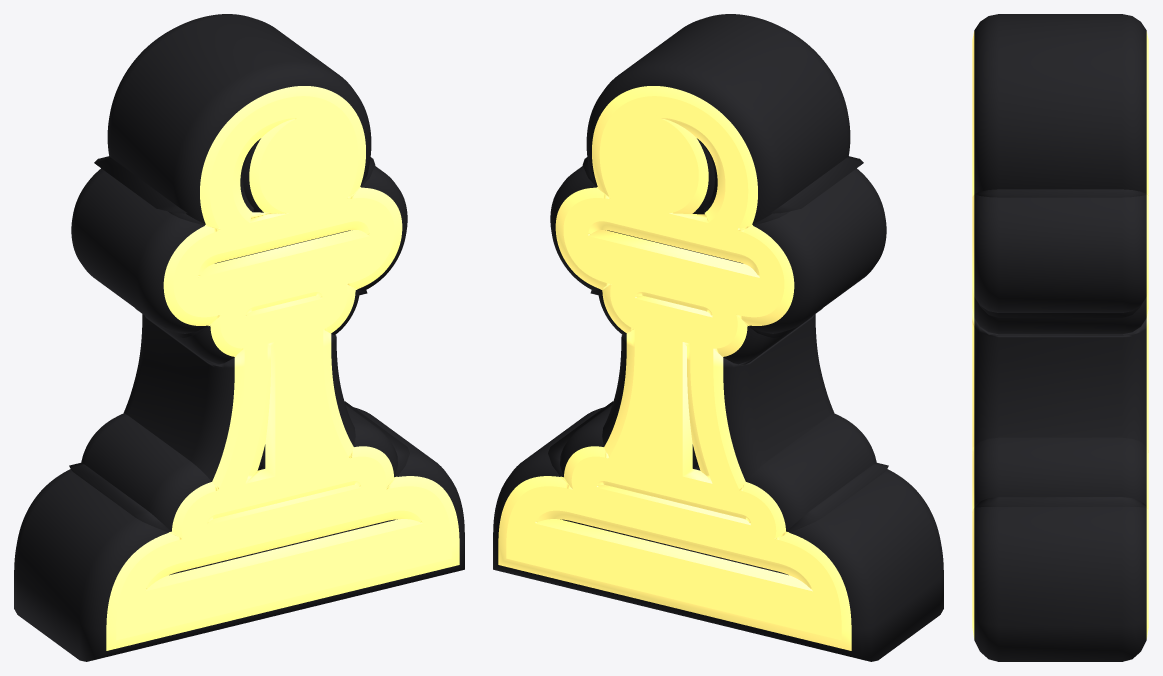
Rendered from symbol_pion.glb.
The picture shows the model from 3 angles, left to right: view 1: azimuth 30°, elevation 25°; view 2: azimuth 150°, elevation 25°; view 3: azimuth 270°, elevation 25°; orthographic projection.
Visible parts, largest first — view 1: symbol_pion; view 2: symbol_pion; view 3: symbol_pion.
Part boxes in pixels (x1,y1,x2,y2): symbol_pion: [14, 14, 464, 661]; symbol_pion: [493, 14, 943, 661]; symbol_pion: [972, 14, 1148, 661].
Size of the model in its own units: 0.2909 by 0.4 by 0.1175.
